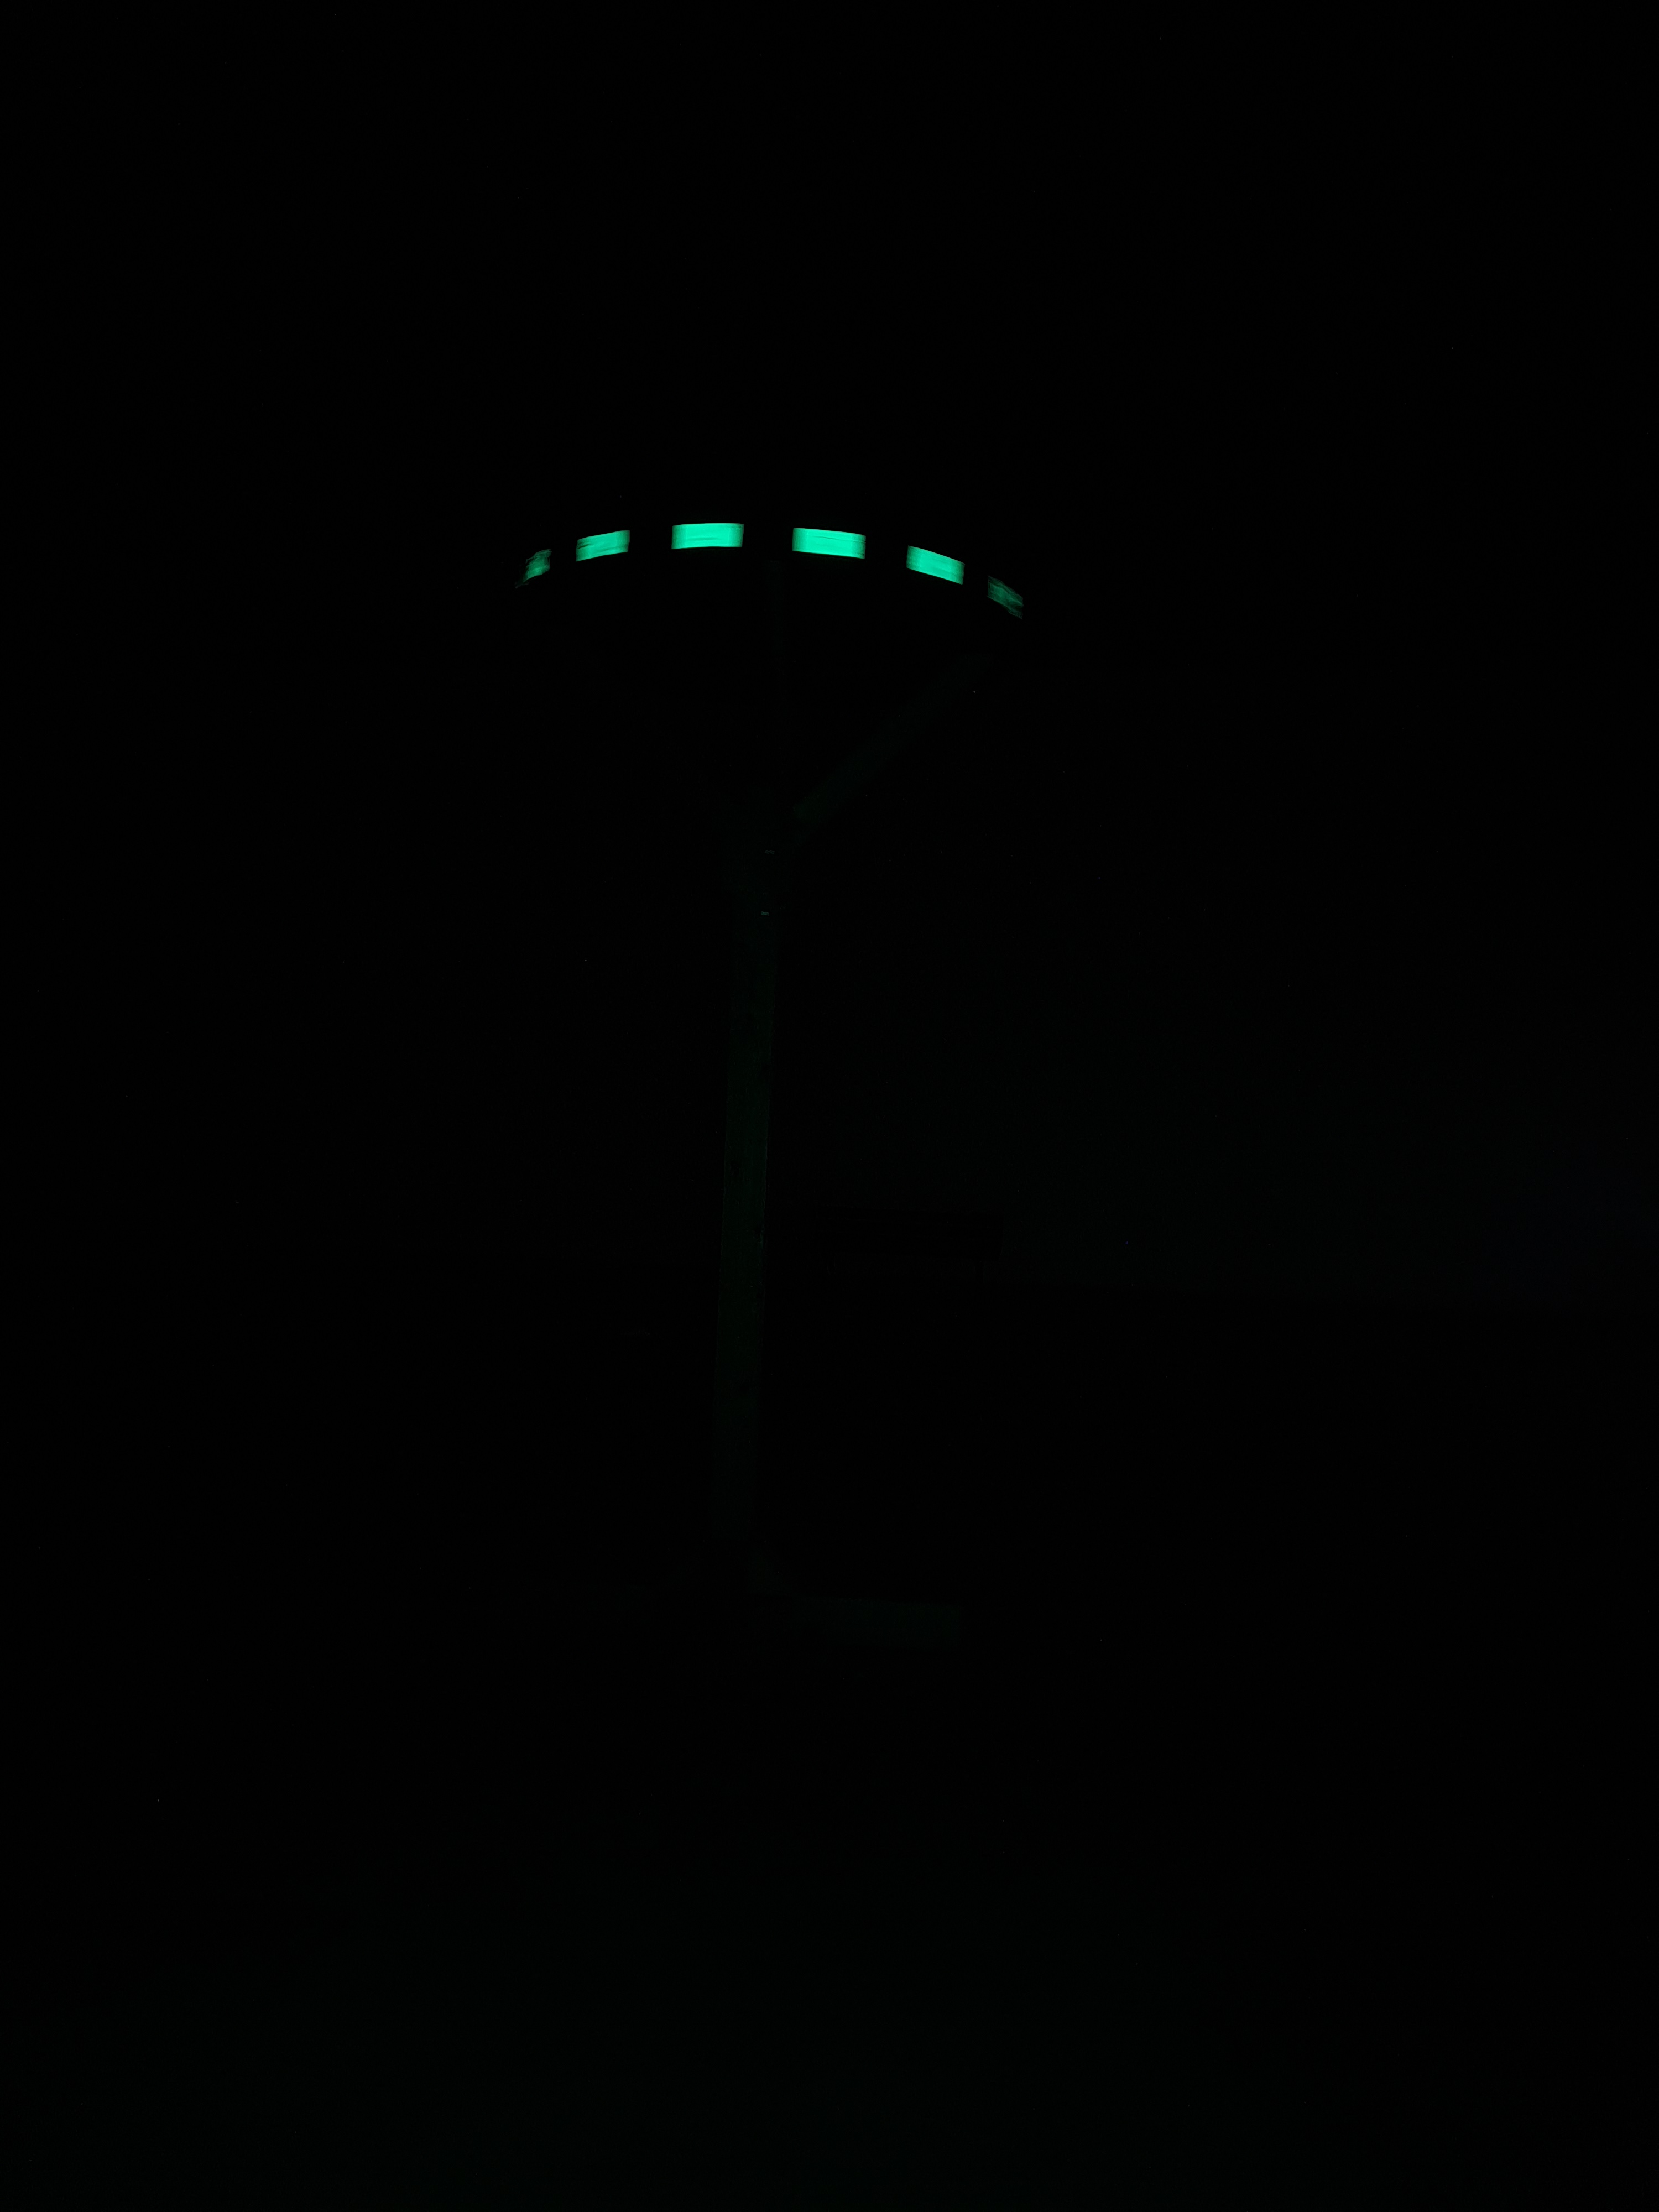hoop: (516, 510, 1025, 632)
